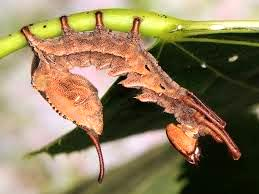Lobster Moth: (11, 9, 242, 174)
